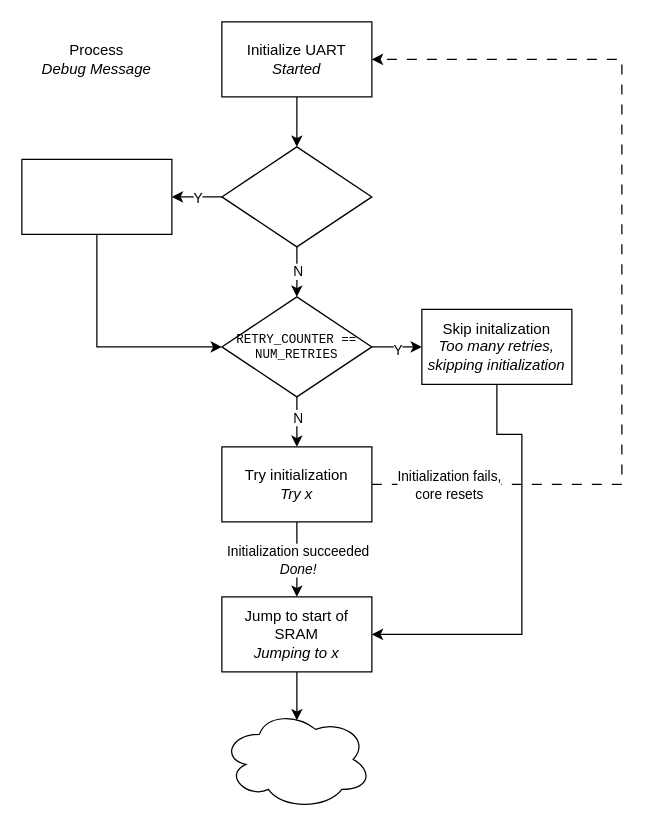
The diagram is 654 pixels wide and 831 high, and some of its shapes have lost their labels. Each missing label, with the box of its shape:
Program in SRAM: (221, 708, 372, 809)
Reset retry counter Resetting retry counter: (21, 158, 172, 234)
RETRY_COUNTER > NUM_RETRIES: (221, 146, 372, 247)
